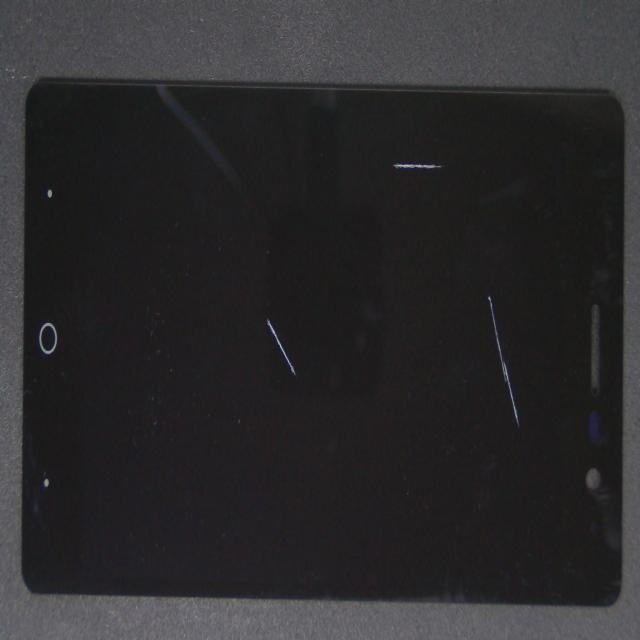scratch: (284, 292, 640, 557), (176, 242, 447, 544), (215, 51, 598, 213)
